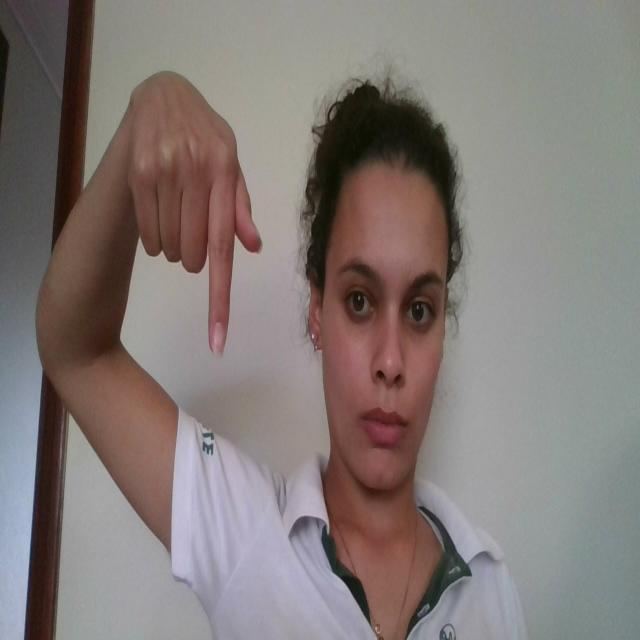Q: (123, 69, 265, 363)
